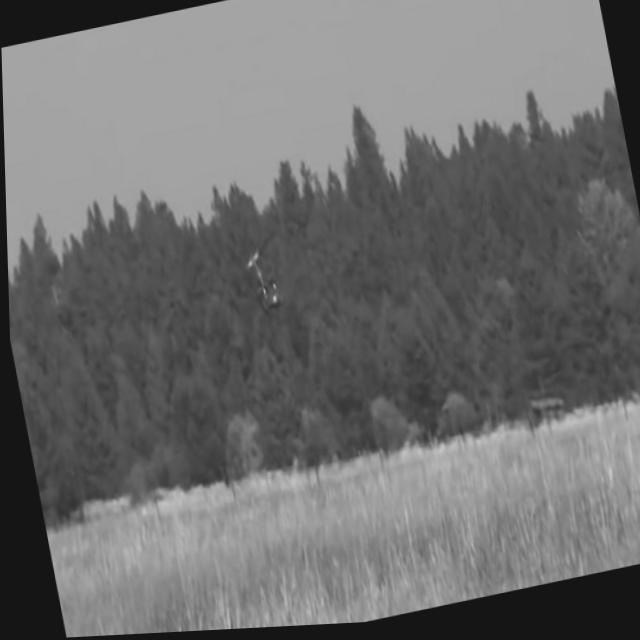helikopter: (217, 227, 307, 349)
